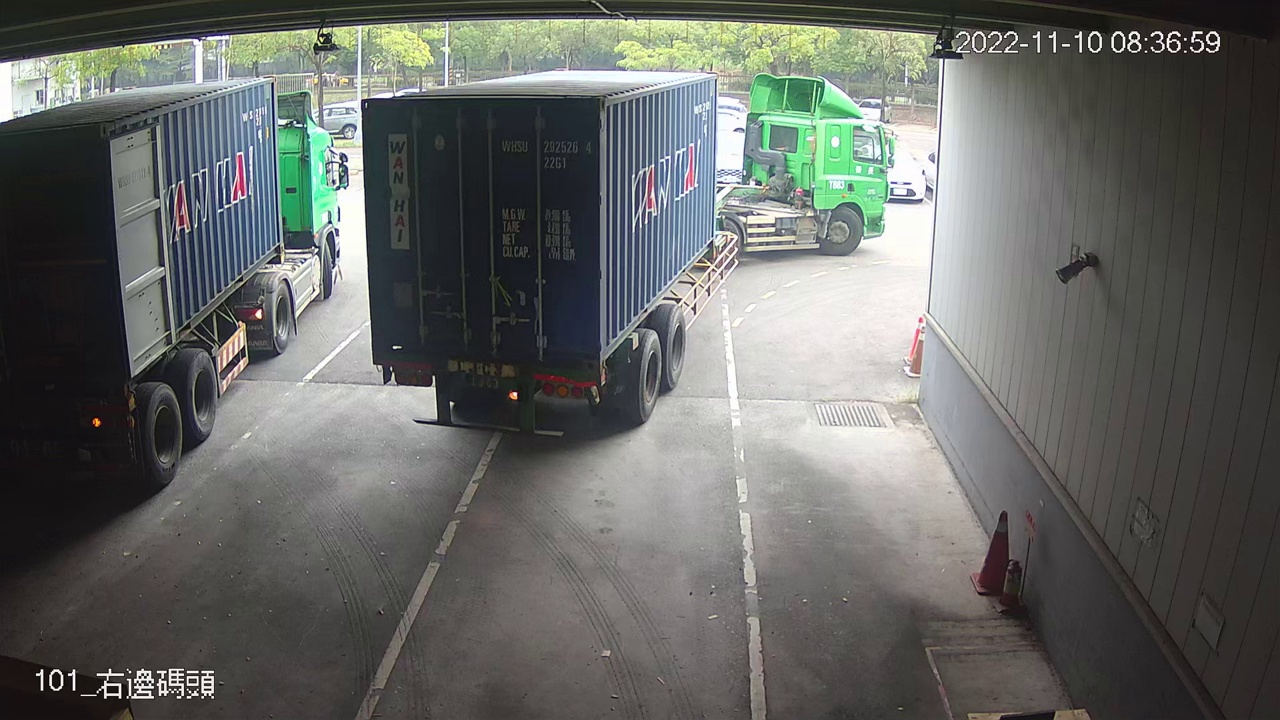container: (497, 135, 596, 174)
